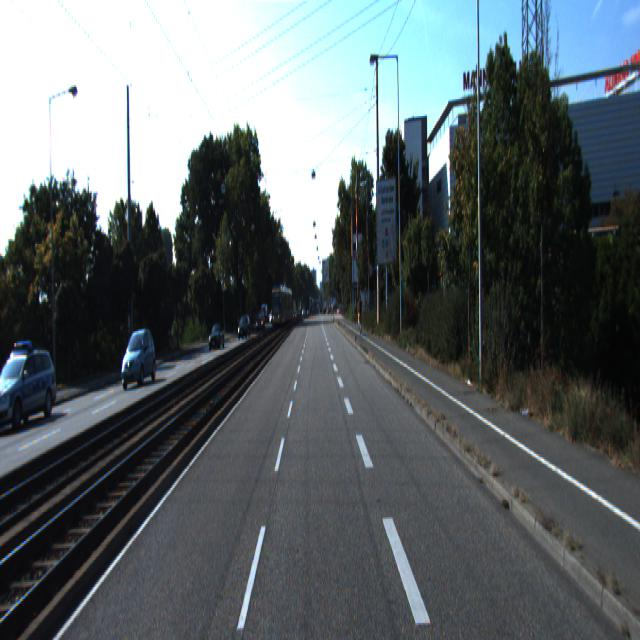Car: (0, 339, 61, 436), (120, 328, 158, 394)
